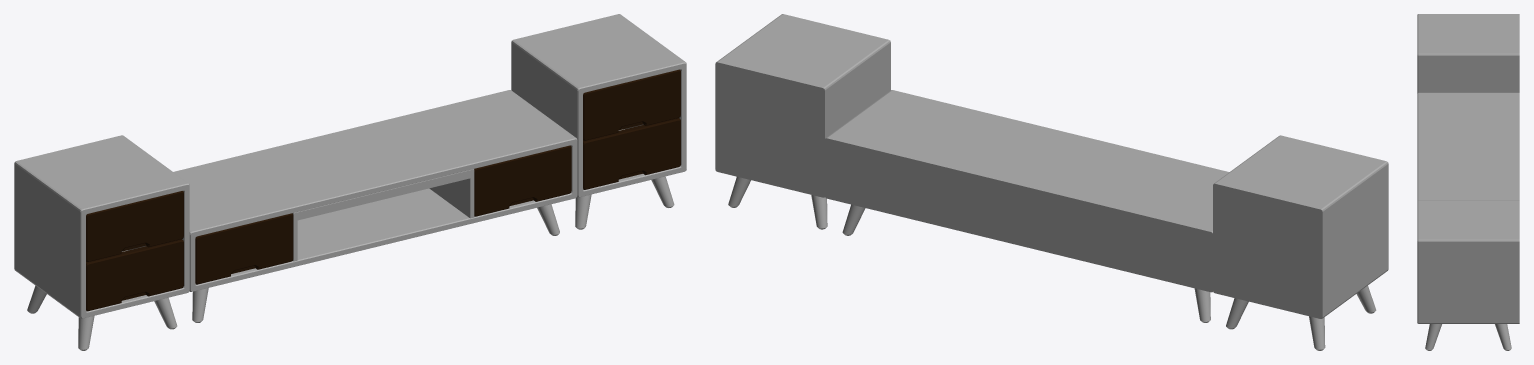
File: H-005_dresser_01_F.FBX
3 views of the same model, side by side, from view 1: azimuth 30°, elevation 25°; view 2: azimuth 150°, elevation 25°; view 3: azimuth 270°, elevation 25° (orthographic). The views are drawn at different scales.
Visible parts, largest first — view 1: h-005_dresser_01_C, h-005_dresser_01_L, h-005_dresser_01_R, h-005_dresser_01_R_drawer_02, h-005_dresser_01_L_drawer_02, h-005_dresser_01_C_drawer_L, h-005_dresser_01_C_drawer_R, h-005_dresser_01_R_drawer_01, h-005_dresser_01_L_drawer_01; view 2: h-005_dresser_01_C, h-005_dresser_01_L, h-005_dresser_01_R; view 3: h-005_dresser_01_R, h-005_dresser_01_C, h-005_dresser_01_L.
Boxes of the visible parts, x1=… form: h-005_dresser_01_C: x1=173, y1=90, x2=577, y2=322; h-005_dresser_01_L: x1=14, y1=135, x2=189, y2=350; h-005_dresser_01_R: x1=511, y1=14, x2=686, y2=229; h-005_dresser_01_R_drawer_02: x1=583, y1=118, x2=680, y2=189; h-005_dresser_01_L_drawer_02: x1=86, y1=239, x2=183, y2=311; h-005_dresser_01_C_drawer_L: x1=195, y1=213, x2=293, y2=284; h-005_dresser_01_C_drawer_R: x1=474, y1=145, x2=571, y2=216; h-005_dresser_01_R_drawer_01: x1=583, y1=69, x2=680, y2=140; h-005_dresser_01_L_drawer_01: x1=86, y1=191, x2=183, y2=261; h-005_dresser_01_C: x1=825, y1=90, x2=1229, y2=322; h-005_dresser_01_L: x1=1213, y1=135, x2=1388, y2=350; h-005_dresser_01_R: x1=715, y1=14, x2=890, y2=229; h-005_dresser_01_R: x1=1417, y1=200, x2=1519, y2=350; h-005_dresser_01_C: x1=1417, y1=92, x2=1519, y2=200; h-005_dresser_01_L: x1=1417, y1=14, x2=1519, y2=93.
Size of the model in its own units: 31.6 by 7.35 by 6.
